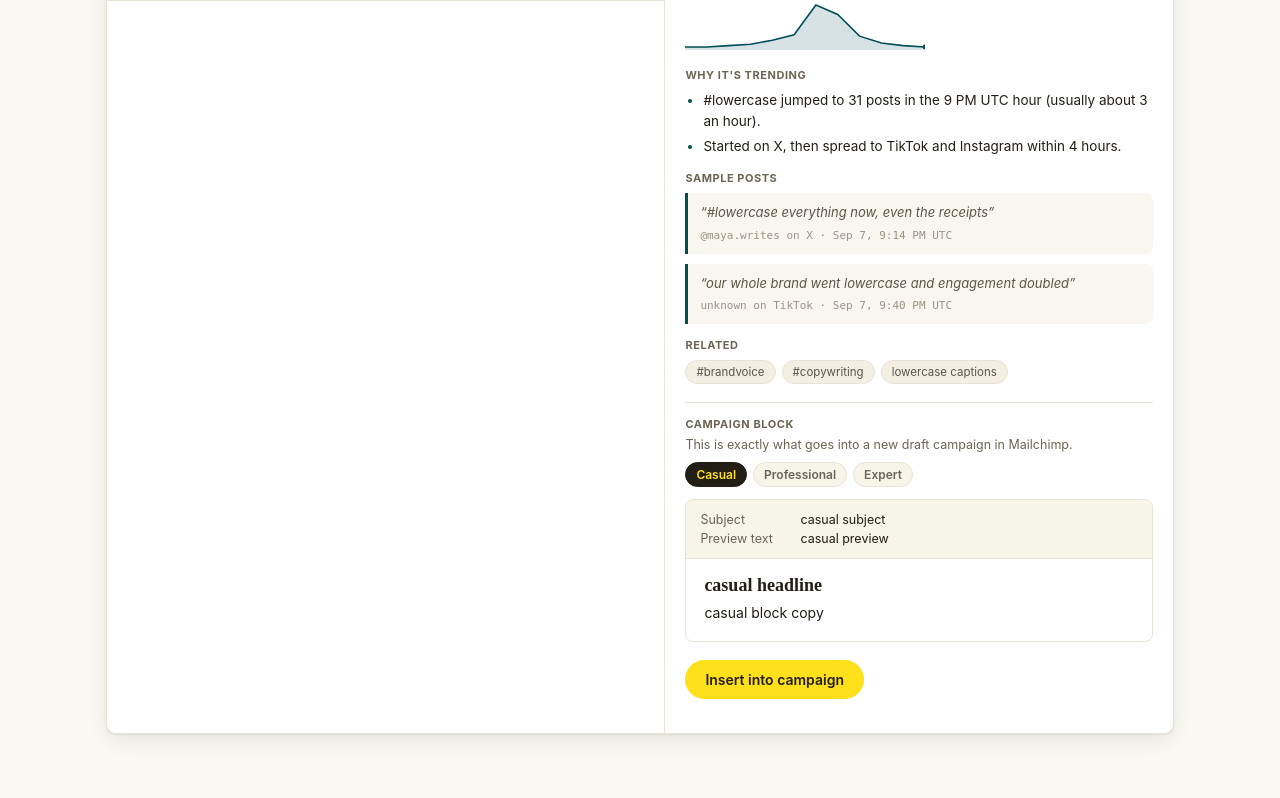
insert state resets when another trend is opened
(page scrolled)
Click the button "Insert into campaign".
click(775, 680)  # box [685, 660, 864, 699]
(page scrolled)
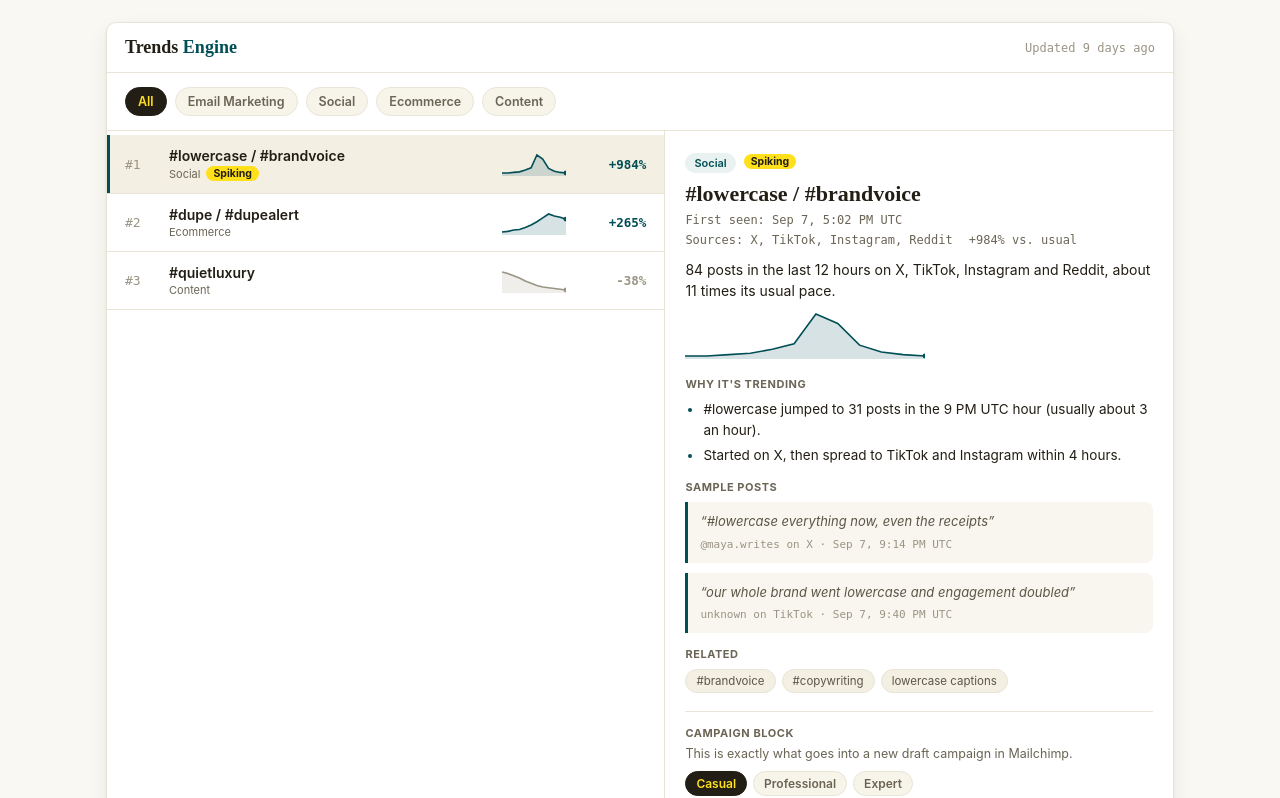
Click the button "#2 #dupe / #dupealert Ecommerce +265%".
click(234, 214)  # box [107, 194, 664, 252]
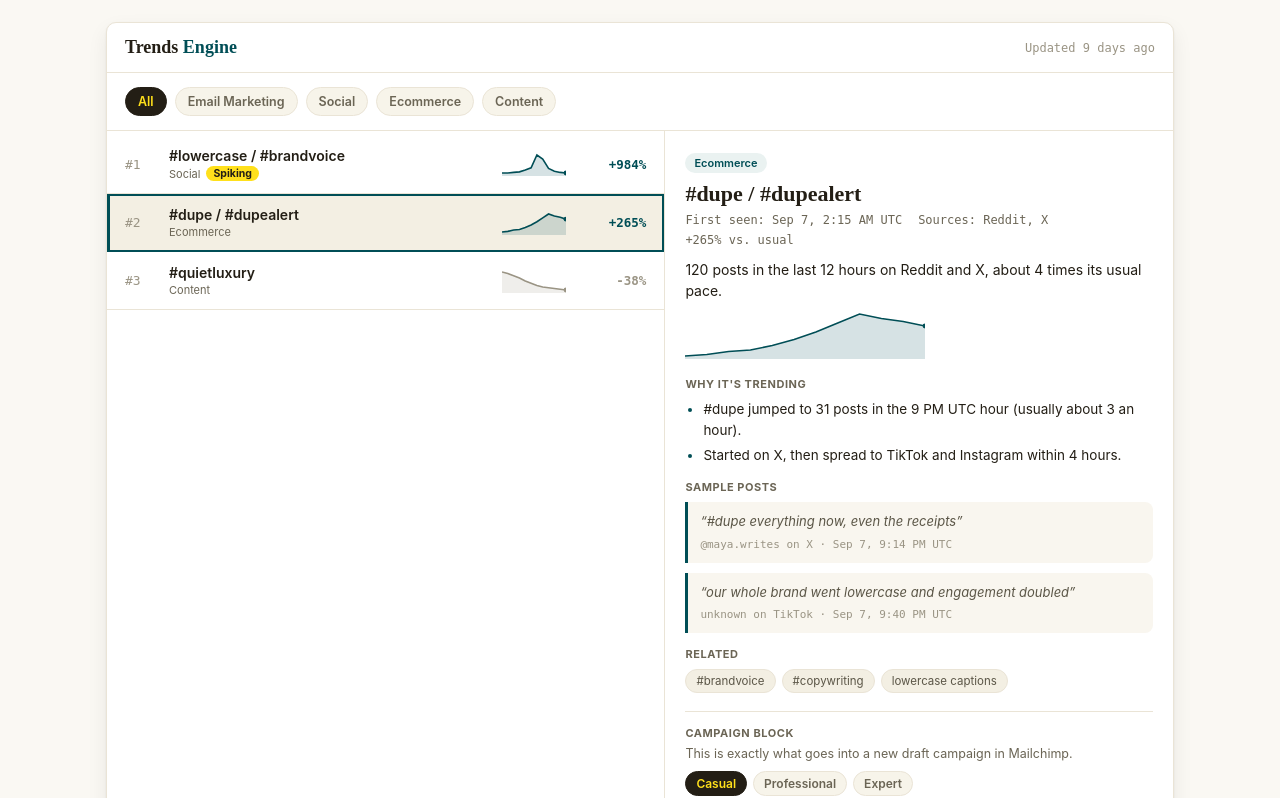
Now the heading "#dupe / #dupealert" is shown, box [685, 181, 861, 206]
